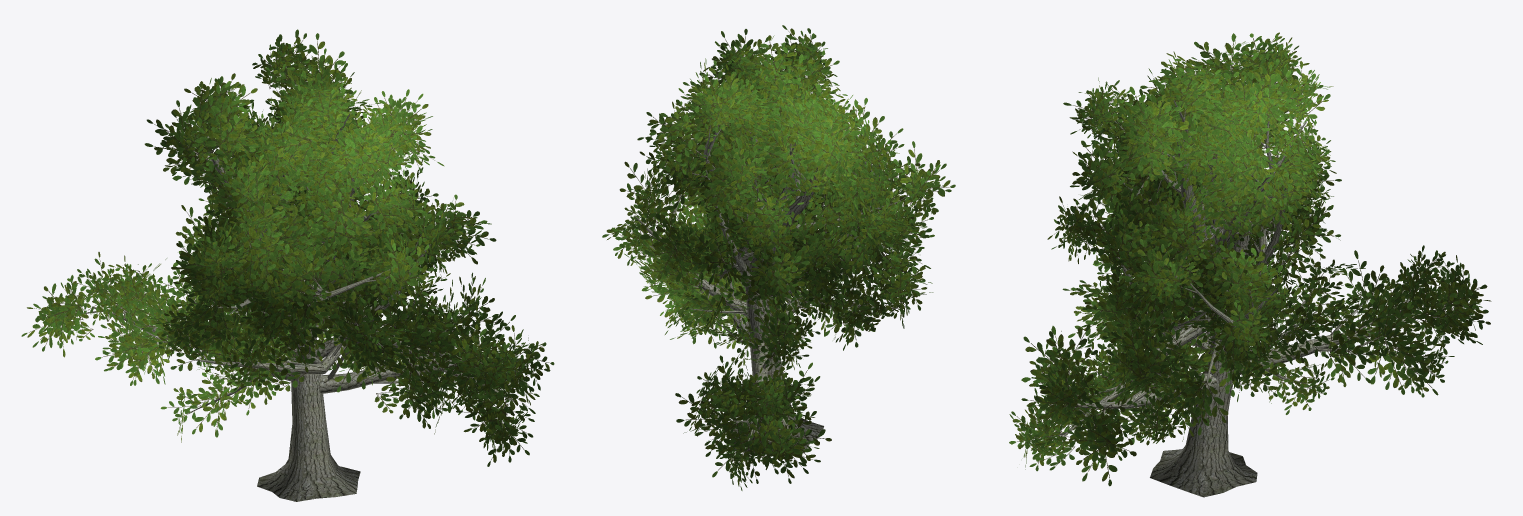
File: tree_giant.glb
The picture shows the model from 3 angles, left to right: view 1: azimuth 30°, elevation 25°; view 2: azimuth 150°, elevation 25°; view 3: azimuth 270°, elevation 25°; orthographic projection. The views are drawn at different scales.
Parts seen in each view (by area): view 1: plant; view 2: plant; view 3: plant.
Part boxes in pixels (left/top/right/bottom): plant: left=21, top=29, right=554, bottom=501; plant: left=602, top=25, right=955, bottom=490; plant: left=1009, top=32, right=1491, bottom=497.
Bounding box in the file's own units: 19.2 × 21.36 × 22.94.
2 materials, 2 textured.
